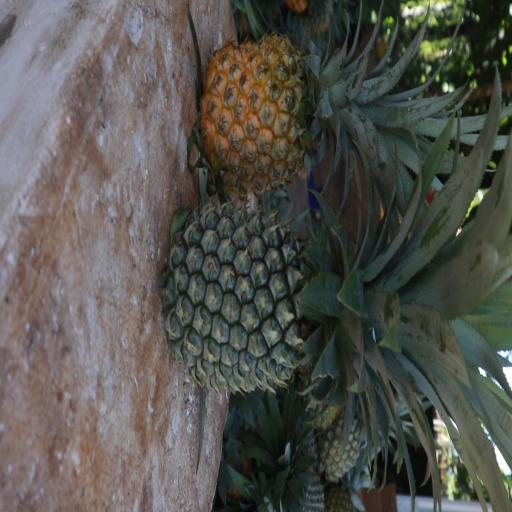Pineapple - v8 v1: (201, 36, 449, 193)
